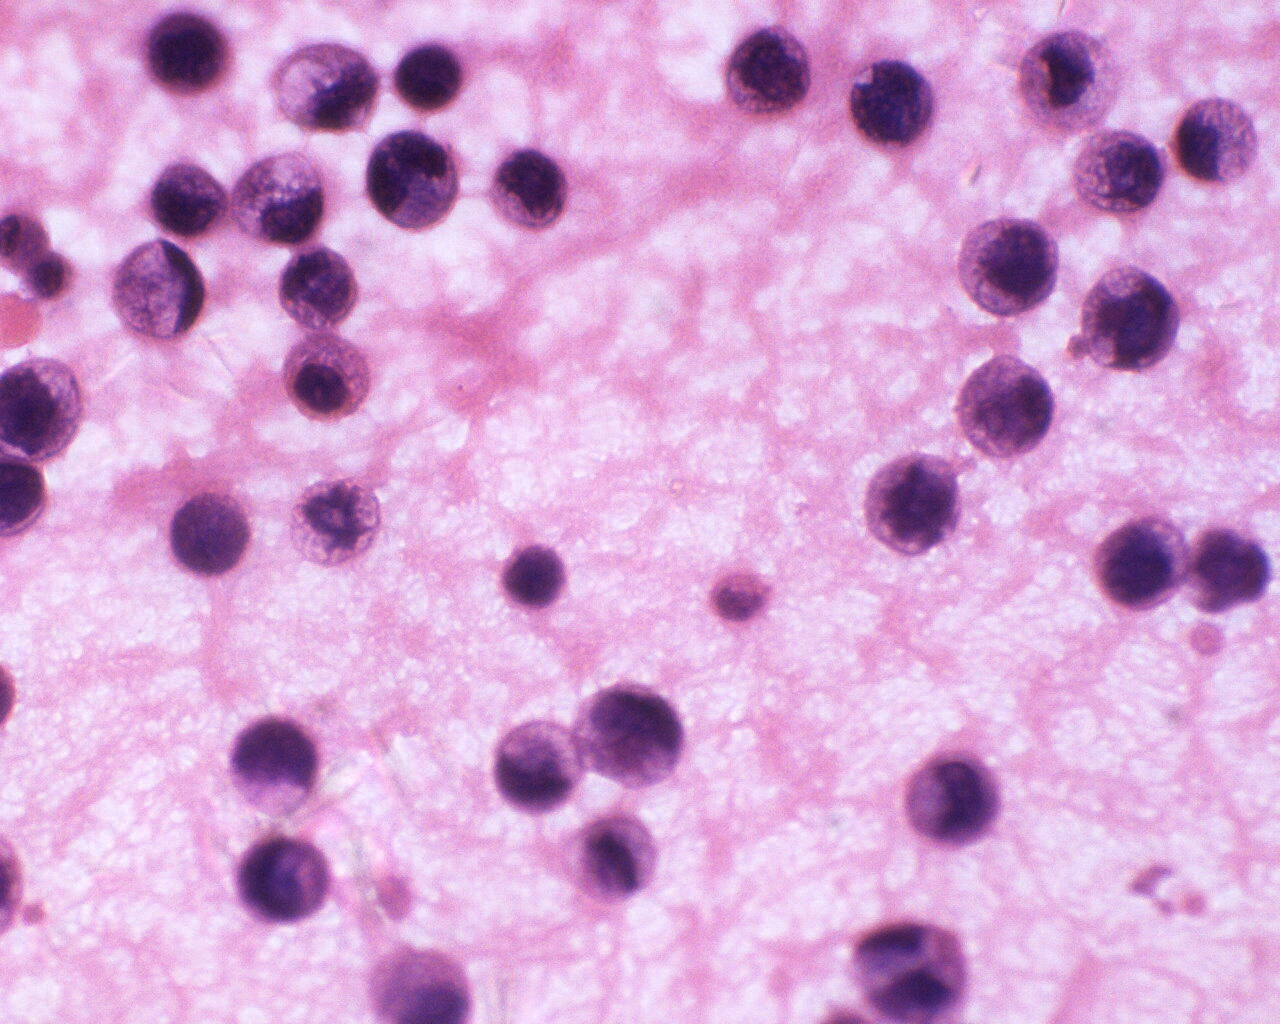ab: (1013, 25, 1127, 139), (952, 207, 1065, 321), (1077, 260, 1182, 378), (271, 37, 383, 141), (1089, 507, 1190, 618), (859, 451, 967, 555), (364, 127, 460, 234), (222, 153, 329, 245), (1066, 123, 1166, 220), (233, 830, 331, 928), (142, 10, 238, 104), (1171, 91, 1263, 188), (272, 247, 367, 336), (722, 26, 812, 117), (487, 140, 572, 232)
histo: (108, 239, 212, 346)
meso: (279, 330, 375, 429)
